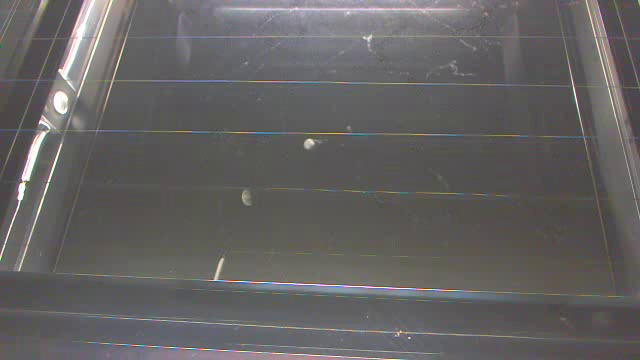alpha: (211, 255, 224, 282), (241, 188, 255, 208), (305, 138, 316, 150)
